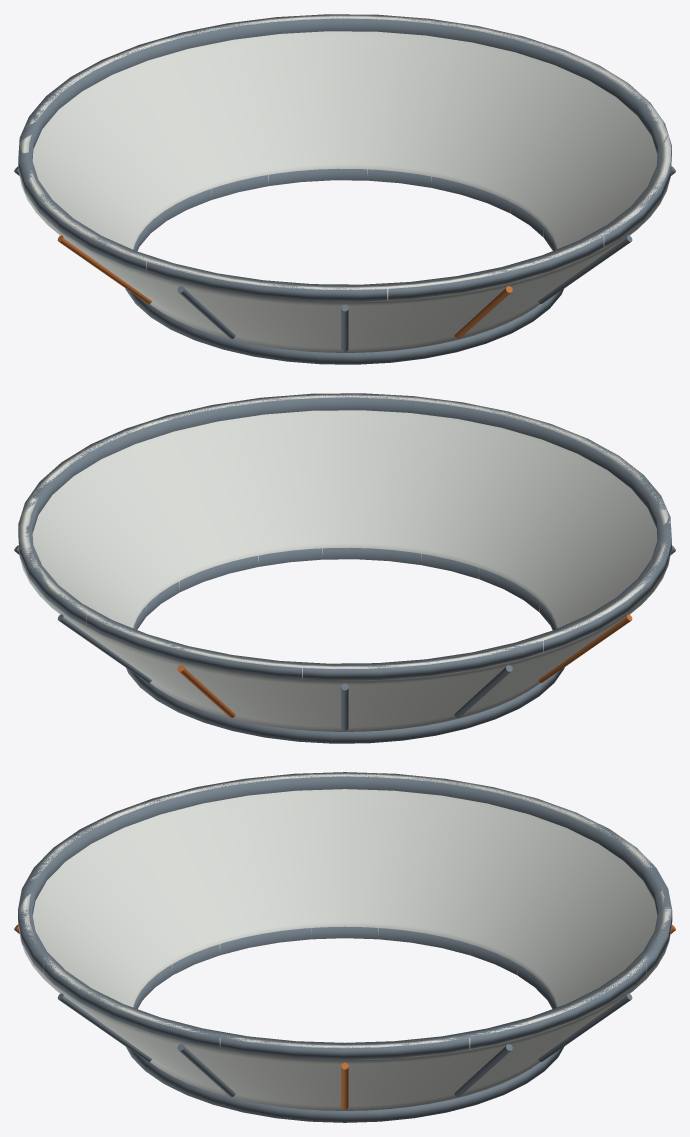
Rendered from jugre_adapter_250_366.glb.
The picture shows the model from 3 angles, top to bottom: view 1: azimuth 30°, elevation 25°; view 2: azimuth 150°, elevation 25°; view 3: azimuth 270°, elevation 25°; orthographic projection.
Visible parts, largest first — view 1: jugre_adapter_250_366.mesh_Pale_thermal_blanket, jugre_adapter_250_366.mesh_Machined_steel, jugre_adapter_250_366.mesh_Spray-on_insulation; view 2: jugre_adapter_250_366.mesh_Pale_thermal_blanket, jugre_adapter_250_366.mesh_Machined_steel, jugre_adapter_250_366.mesh_Spray-on_insulation; view 3: jugre_adapter_250_366.mesh_Pale_thermal_blanket, jugre_adapter_250_366.mesh_Machined_steel.
Boxes of the visible parts, x1,y1,x2,y2 form: jugre_adapter_250_366.mesh_Pale_thermal_blanket: [19, 14, 670, 352]; jugre_adapter_250_366.mesh_Machined_steel: [14, 14, 675, 364]; jugre_adapter_250_366.mesh_Spray-on_insulation: [57, 235, 512, 338]; jugre_adapter_250_366.mesh_Pale_thermal_blanket: [19, 393, 670, 731]; jugre_adapter_250_366.mesh_Machined_steel: [14, 393, 675, 743]; jugre_adapter_250_366.mesh_Spray-on_insulation: [177, 614, 632, 717]; jugre_adapter_250_366.mesh_Pale_thermal_blanket: [19, 772, 671, 1110]; jugre_adapter_250_366.mesh_Machined_steel: [18, 772, 672, 1122].
Size of the model in its own units: 3.71 by 0.7288 by 3.71.
